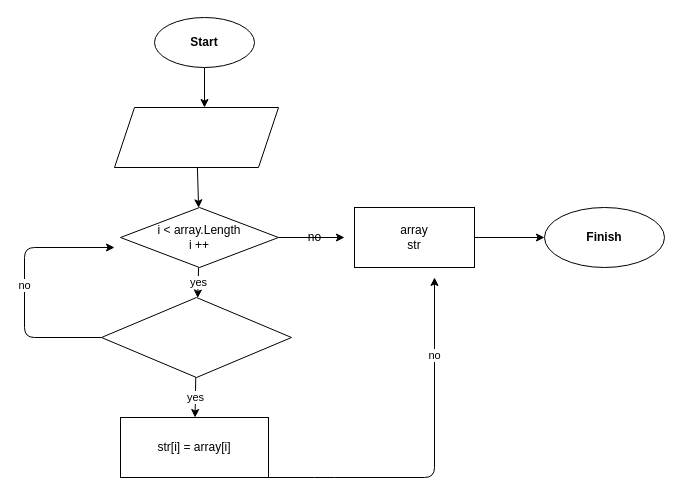
This 682x503 diagram has some shape labels left out. Here are the shapes that lost their labels. From the top down, the centre of each, then its label:
At (x=196, y=137): "array string str = array.Length int i".
At (x=196, y=337): "array[i].Length <= 3".
